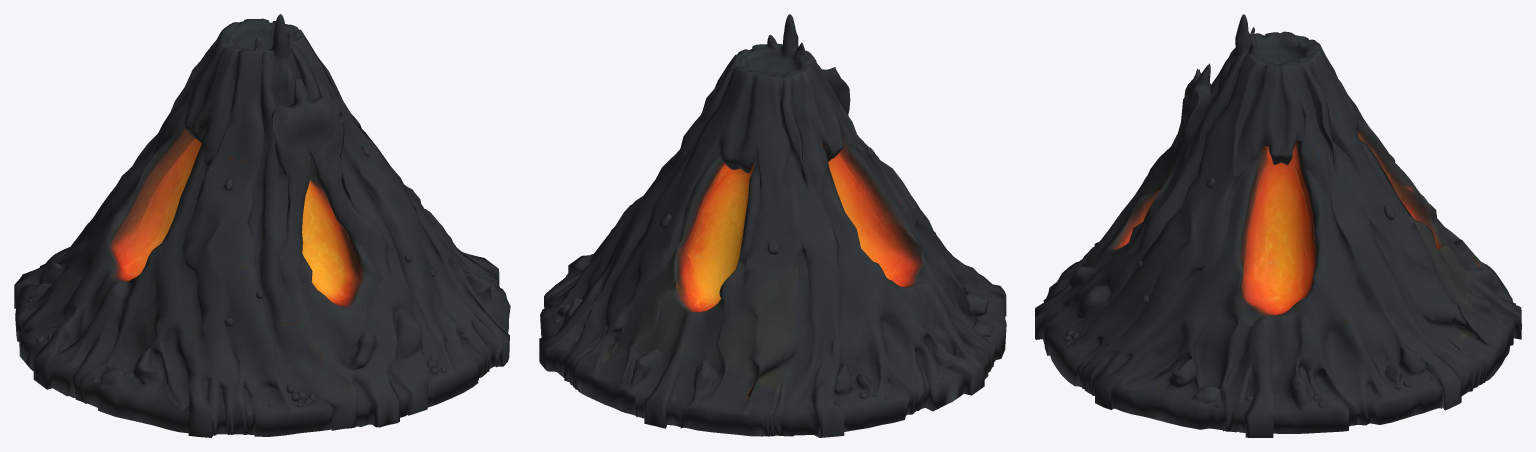
Rendered from volcano.glb.
3 renders of one model, left to right at view 1: azimuth 30°, elevation 25°; view 2: azimuth 150°, elevation 25°; view 3: azimuth 270°, elevation 25°, orthographic. The views are drawn at different scales.
Size of the model in its own units: 0.9541 by 0.6885 by 0.9478.
1 material, 1 textured.
